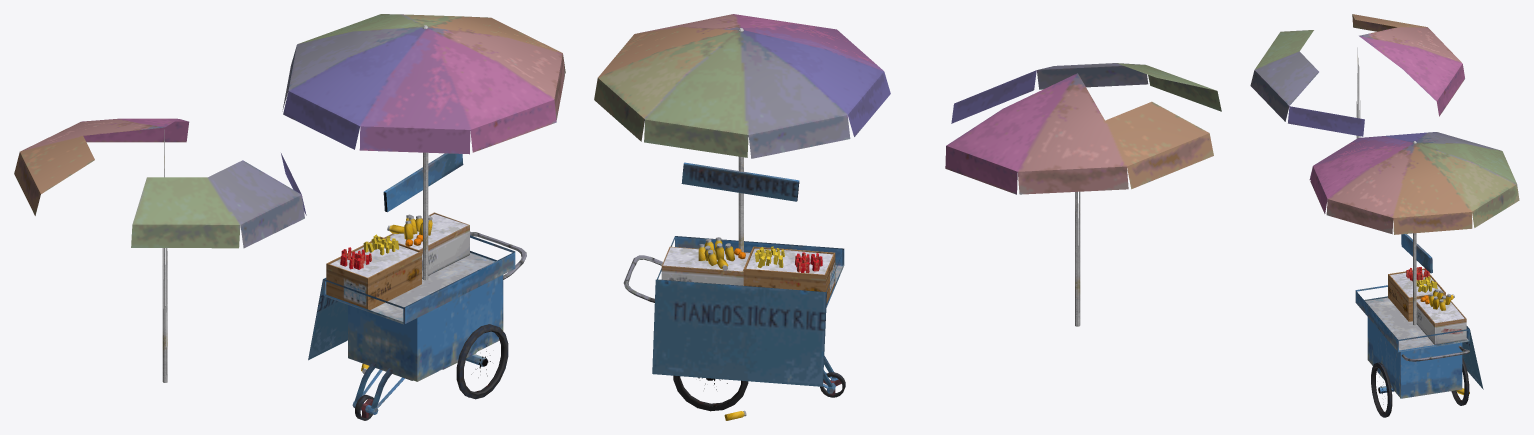
Rendered from cart.glb.
3 renders of one model, left to right at view 1: azimuth 30°, elevation 25°; view 2: azimuth 150°, elevation 25°; view 3: azimuth 270°, elevation 25°, orthographic. The views are drawn at different scales.
Bounding box in the file's own units: 5.21 × 3.24 × 3.01.
Materials: 1 (1 with a texture image).
